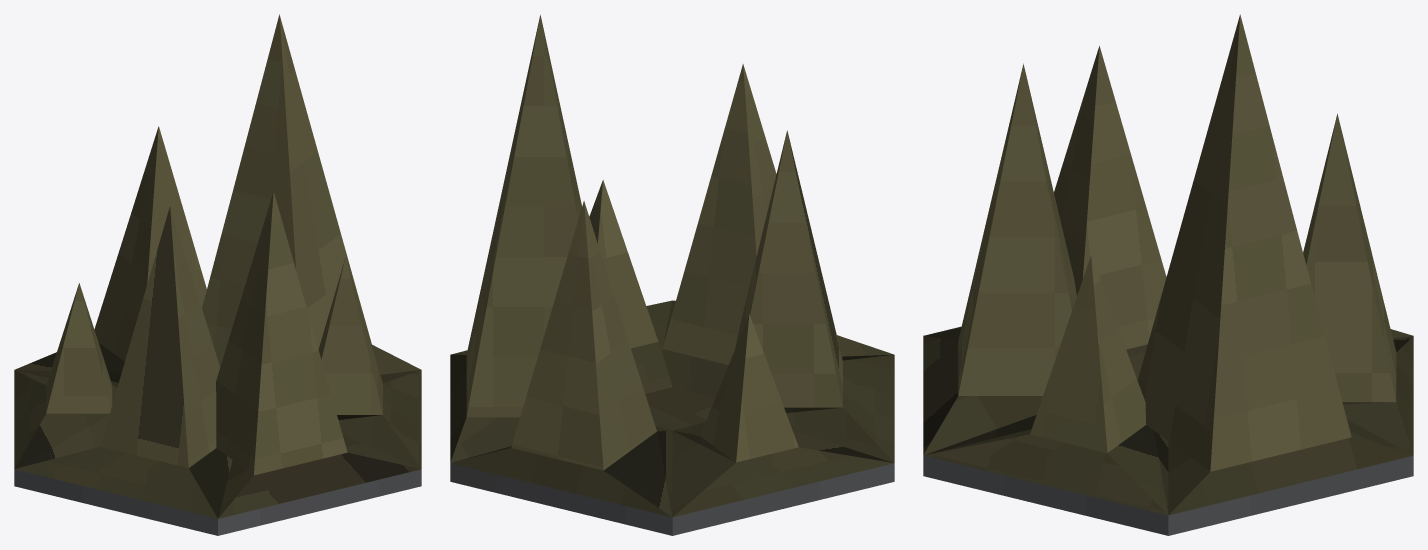
The model's file is marble_spikes.glb.
3 renders of one model, left to right at view 1: azimuth 30°, elevation 25°; view 2: azimuth 150°, elevation 25°; view 3: azimuth 270°, elevation 25°, orthographic. The views are drawn at different scales.
Parts seen in each view (by area): view 1: MarbleSpikes; view 2: MarbleSpikes; view 3: MarbleSpikes.
Part boxes in pixels (x1=…): MarbleSpikes: x1=14, y1=14, x2=421, y2=535; MarbleSpikes: x1=450, y1=14, x2=894, y2=535; MarbleSpikes: x1=923, y1=14, x2=1413, y2=535.
Size of what is drawn, in the model's own units: 2.5 by 2.22 by 2.17.
3 materials, 3 textured.
